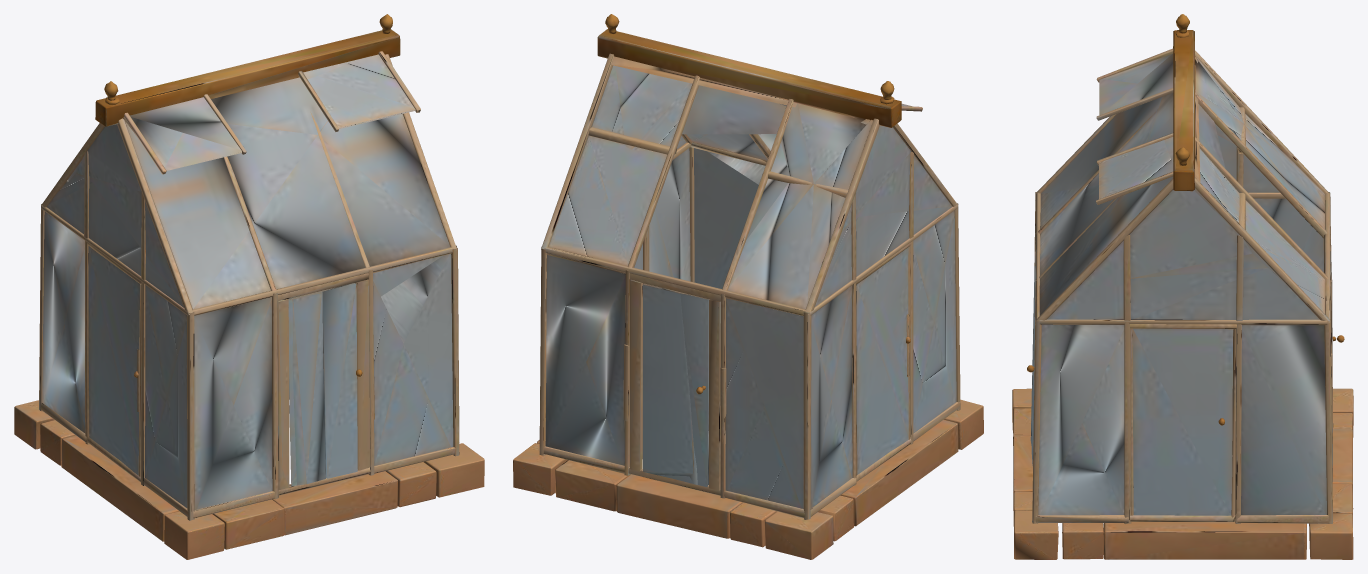
Rendered from greenhouse.glb.
The picture shows the model from 3 angles, left to right: view 1: azimuth 30°, elevation 25°; view 2: azimuth 150°, elevation 25°; view 3: azimuth 270°, elevation 25°; orthographic projection.
Parts seen in each view (by area): view 1: greenhouse; view 2: greenhouse; view 3: greenhouse.
Boxes of the visible parts, <box> form: greenhouse: <box>14,14,484,559</box>; greenhouse: <box>513,14,983,559</box>; greenhouse: <box>1012,14,1353,559</box>.
Bounding box in the file's own units: 2 × 2.63 × 2.
Materials: 1 (1 with a texture image).
